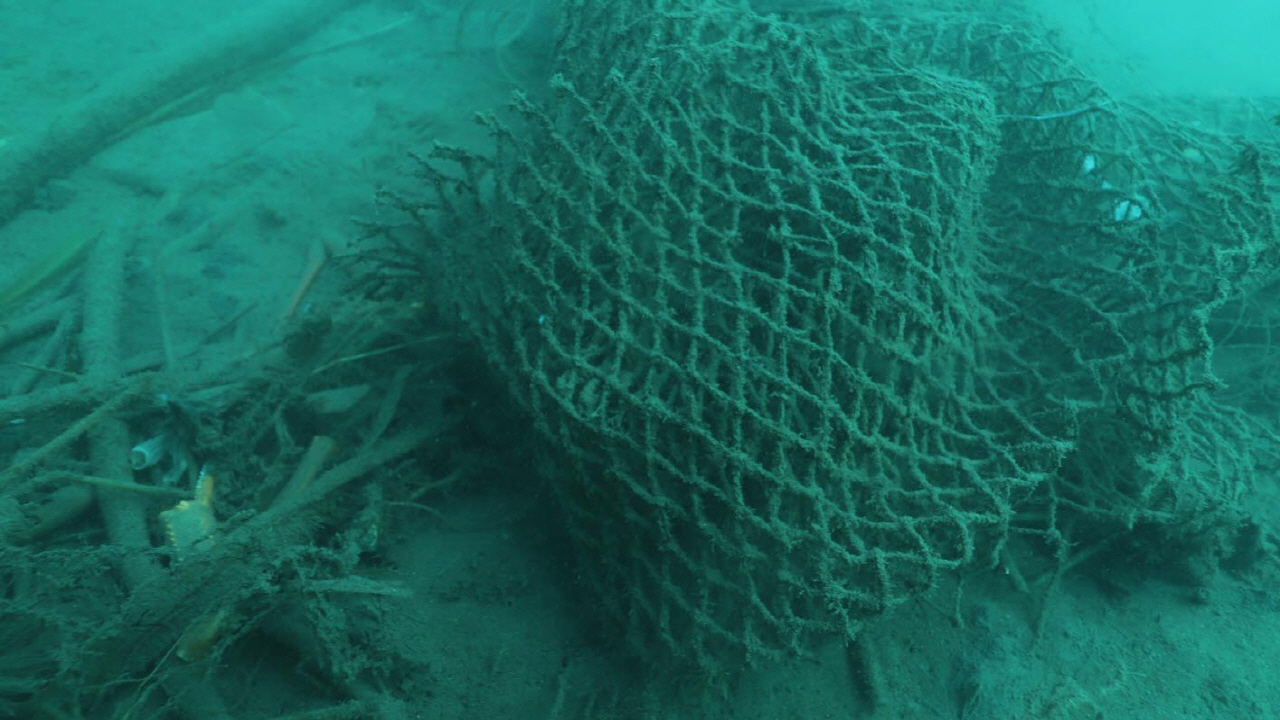fish net: (359, 0, 1280, 674)
